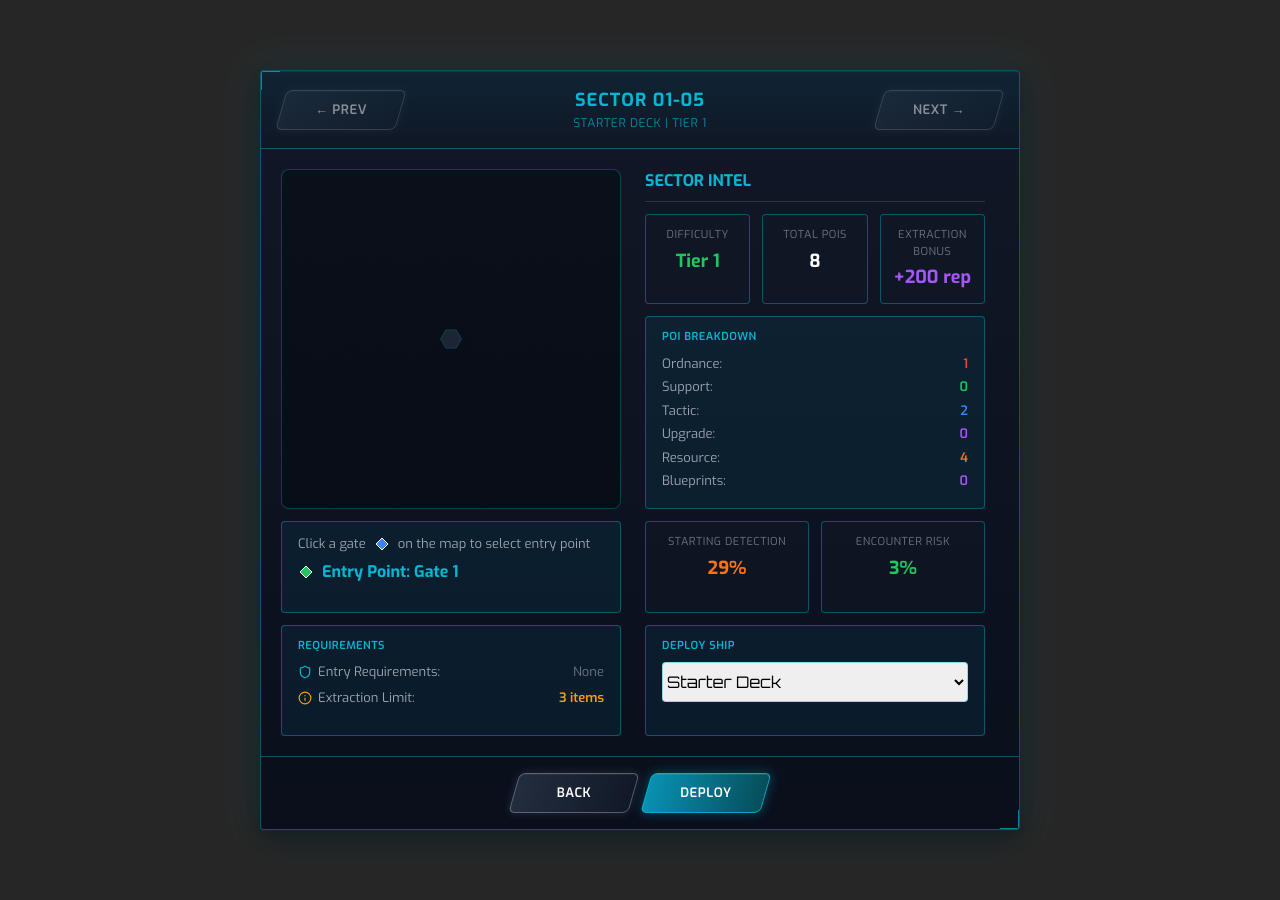
Test: Starter Deck Warning Integration › should show warning modal when deploying starter with custom decks available
Note: Click Deploy button
Click the button "Deploy". click: (706, 793)
box: top-left (646, 773), bottom-right (766, 813)
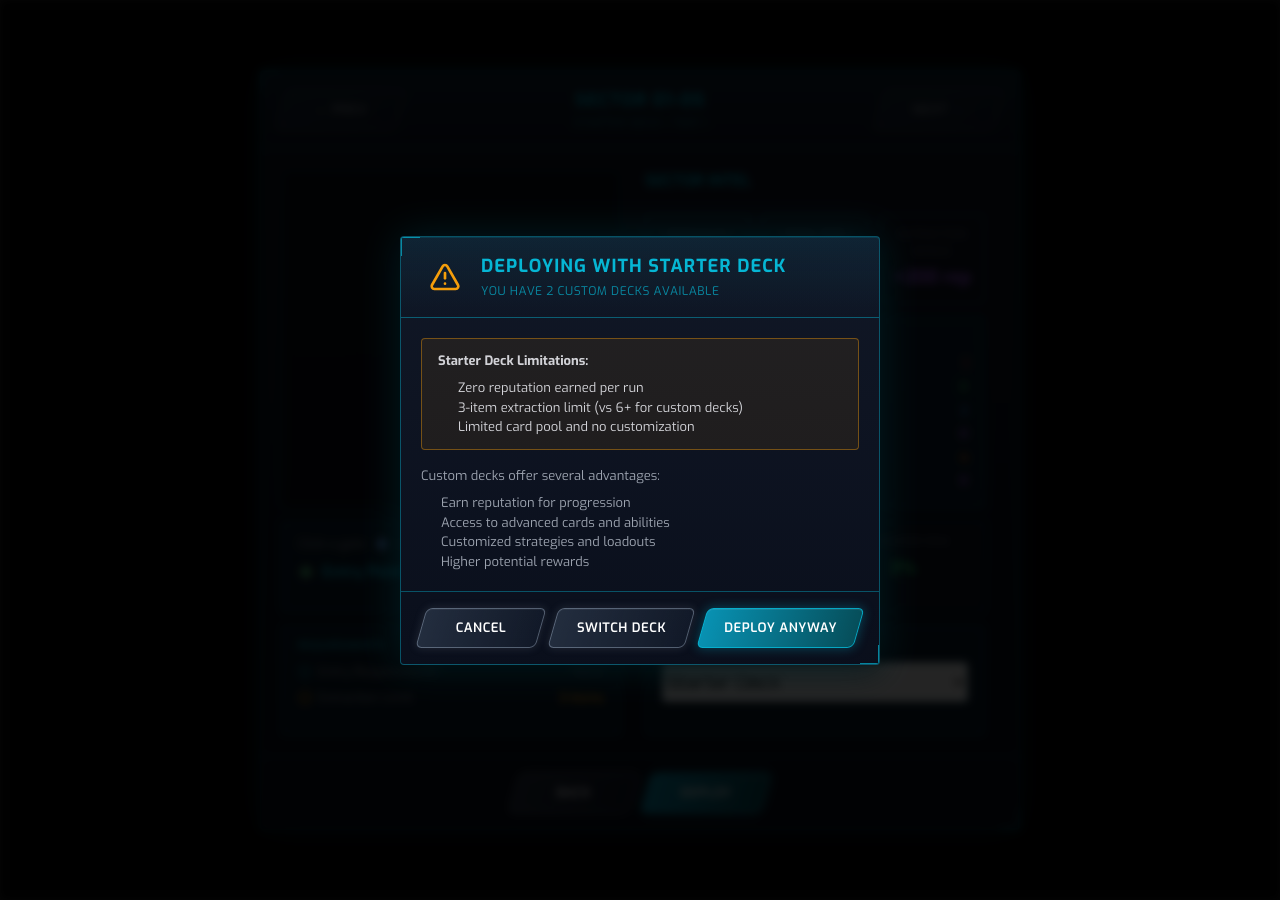
expect the heading "Deploying with Starter Deck" is shown: met, box top-left (481, 254), bottom-right (786, 278)
expect the text "You have 2 custom decks available" is shown: met, box top-left (481, 283), bottom-right (720, 299)
